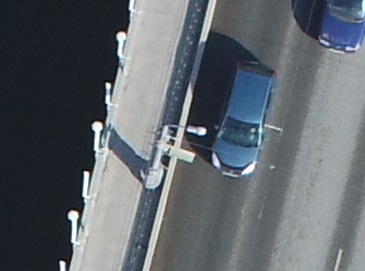opora: (116, 115, 207, 190)
